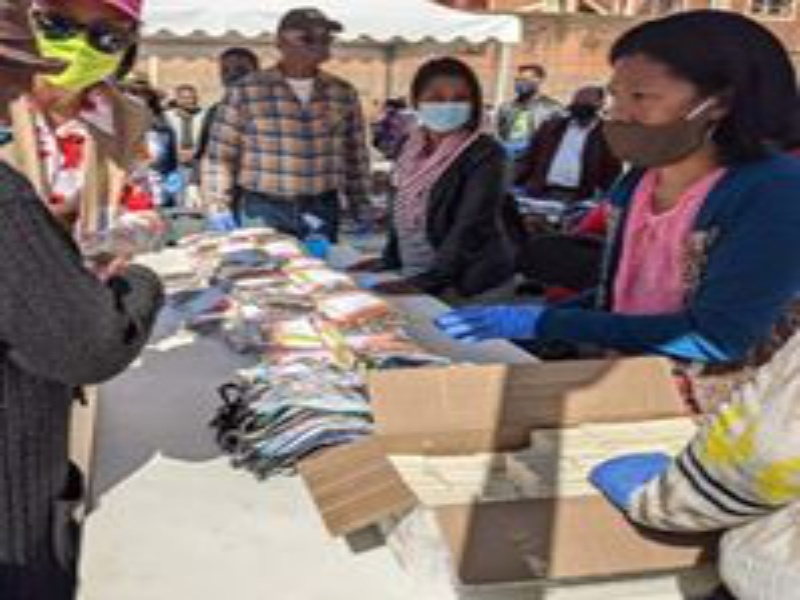ManaoArotava: (587, 21, 734, 180), (14, 1, 145, 101), (401, 51, 487, 152)
